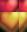heart: (0, 0, 19, 12), (19, 0, 27, 12)
